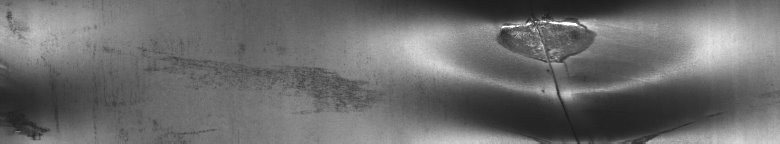ke: (484, 12, 689, 136)
